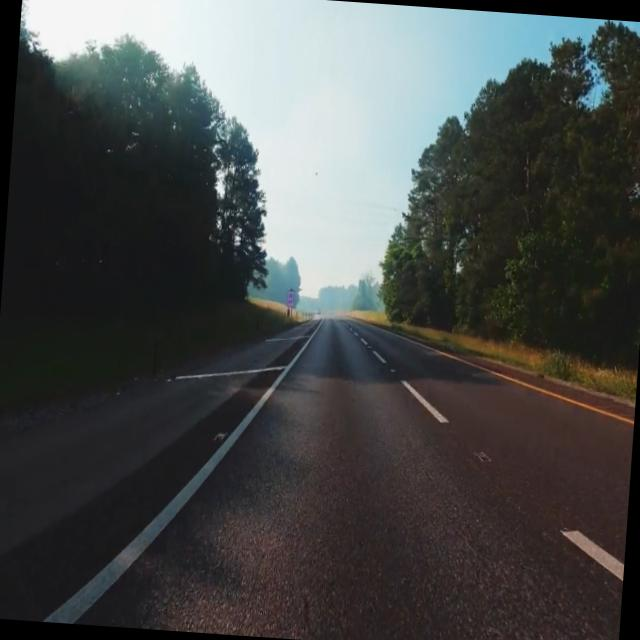asphalt: (76, 319, 633, 640)
